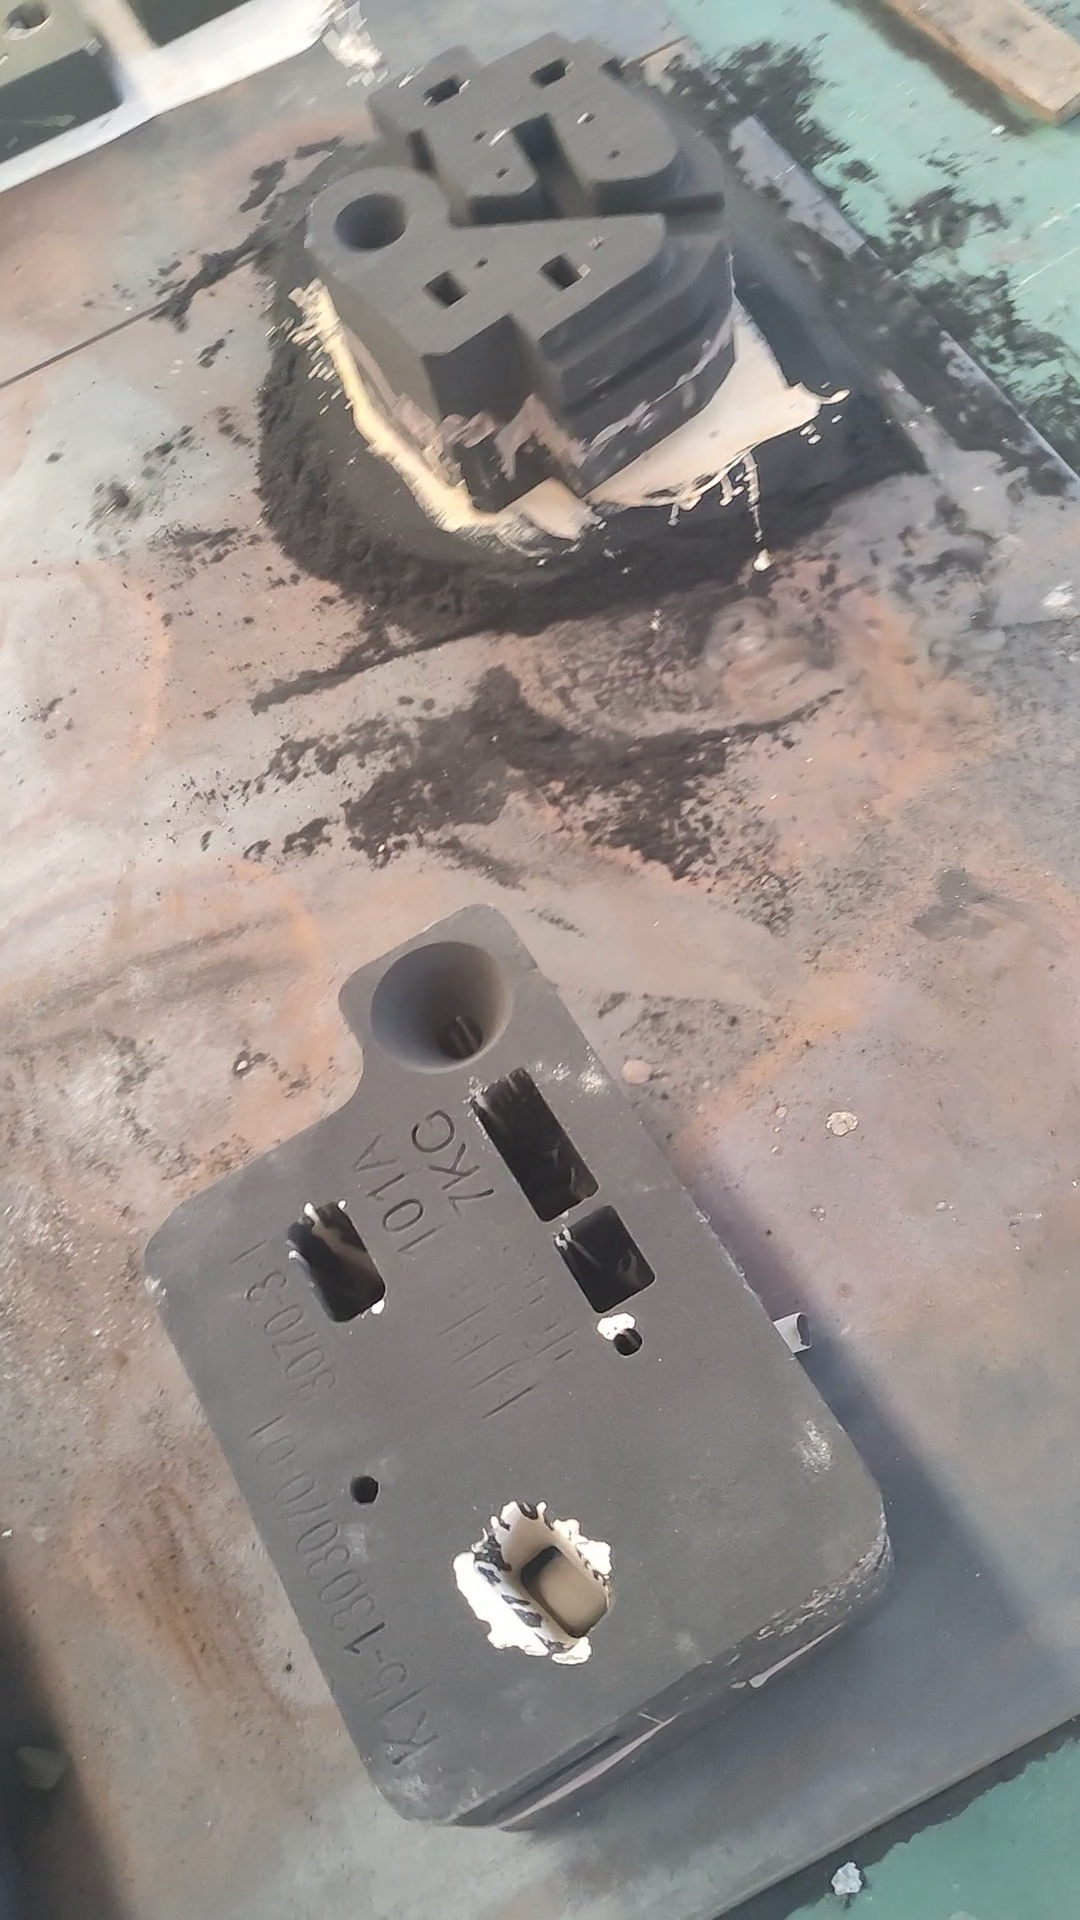pouring hole: (369, 942, 512, 1068), (334, 193, 410, 251), (4, 1, 51, 33)
